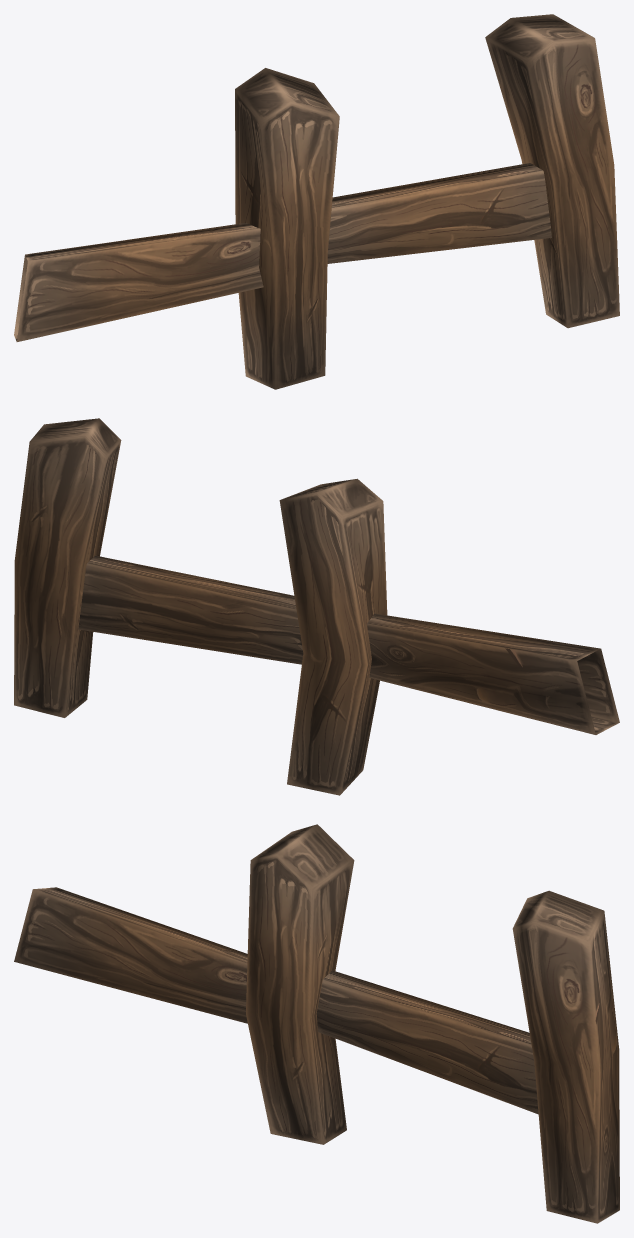
The model's file is fenceWoodShortA.fbx.
3 views of the same model, one above another, from view 1: azimuth 30°, elevation 25°; view 2: azimuth 150°, elevation 25°; view 3: azimuth 330°, elevation 25° (orthographic).
Visible parts, largest first — view 1: fenceWoodShortA; view 2: fenceWoodShortA; view 3: fenceWoodShortA.
Part boxes in pixels (left/top/right/bottom): fenceWoodShortA: left=14, top=14, right=619, bottom=389; fenceWoodShortA: left=14, top=418, right=619, bottom=795; fenceWoodShortA: left=14, top=824, right=619, bottom=1223.
Bounding box in the file's own units: 267 × 129 × 33.92.
